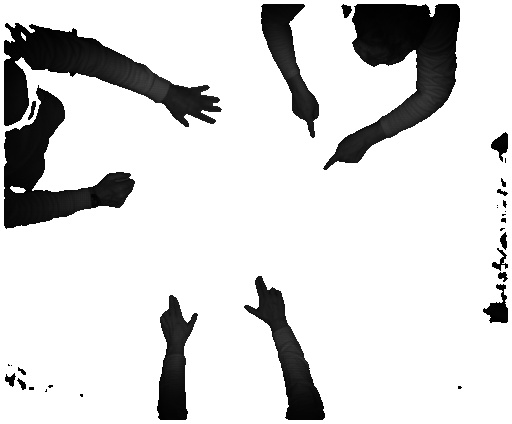fist: (100, 168, 135, 207)
hand: (243, 272, 295, 326), (170, 80, 223, 127), (160, 288, 199, 349), (324, 132, 378, 175), (280, 87, 319, 143)
